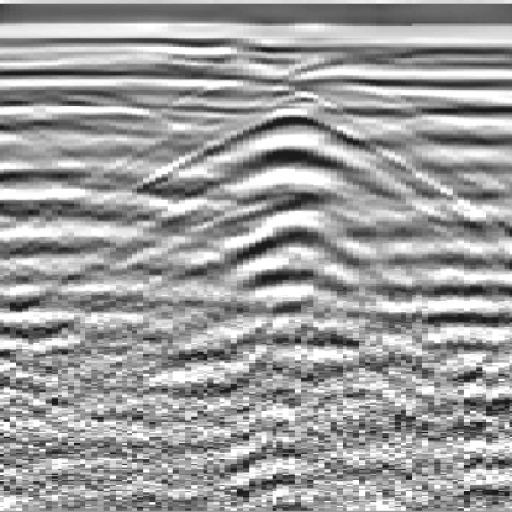metalic: (59, 84, 510, 344)
